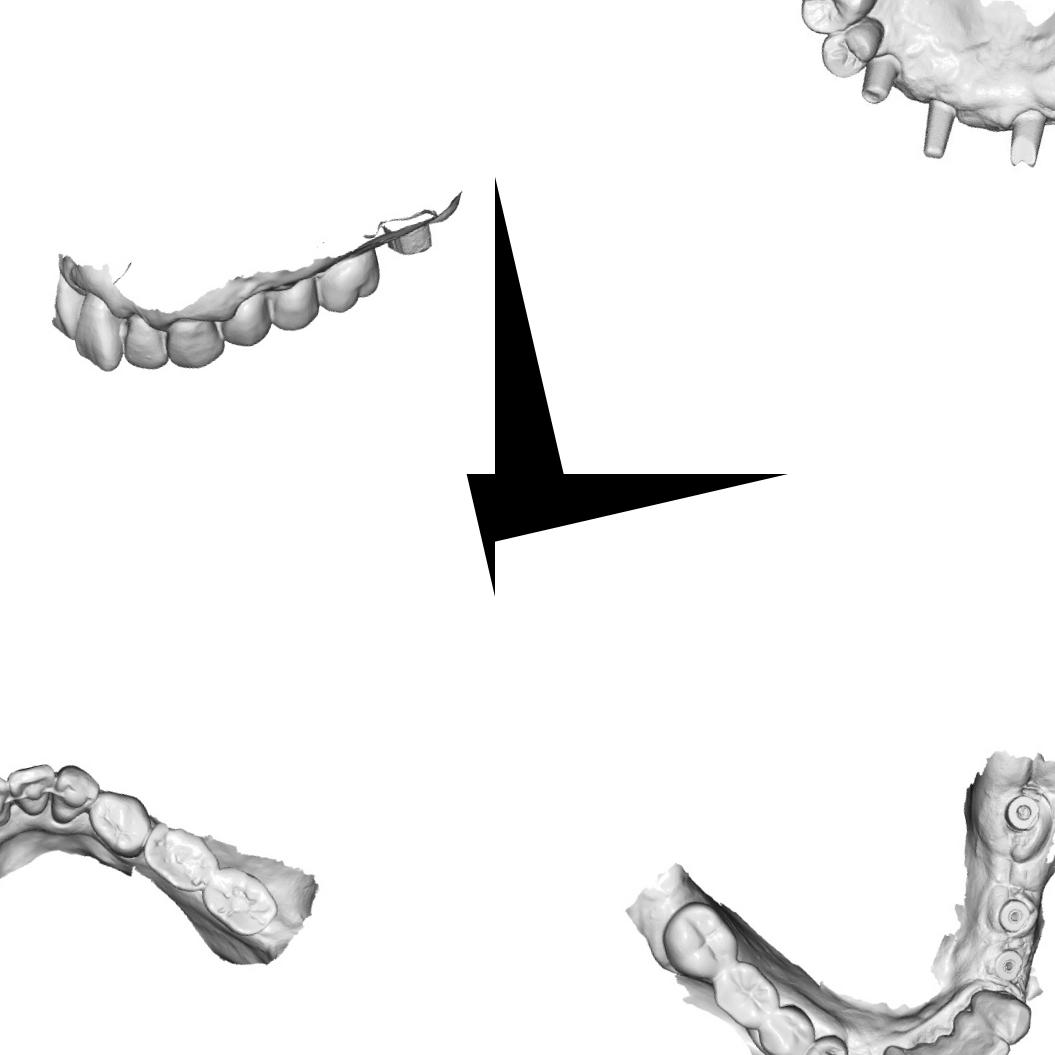abutment: (908, 90, 972, 166), (995, 97, 1055, 176), (852, 48, 910, 109)
canine: (962, 978, 1038, 1054), (158, 306, 230, 376), (41, 758, 106, 831)
crown: (384, 221, 438, 262)
implant: (997, 790, 1045, 836), (992, 894, 1036, 940), (990, 943, 1030, 984)
incisor: (61, 283, 131, 380), (36, 270, 92, 348), (114, 305, 174, 377), (2, 758, 65, 822), (957, 1021, 1014, 1055), (905, 1032, 960, 1055), (941, 1031, 987, 1055), (0, 771, 16, 835), (871, 1040, 926, 1055)
molar: (652, 891, 748, 991), (194, 854, 285, 946), (136, 810, 225, 902), (706, 952, 787, 1040), (309, 246, 389, 318), (782, 0, 887, 41)
premolar: (81, 781, 158, 865), (812, 13, 896, 83), (212, 285, 280, 354), (262, 273, 325, 337), (750, 999, 822, 1055), (787, 1029, 860, 1055)
